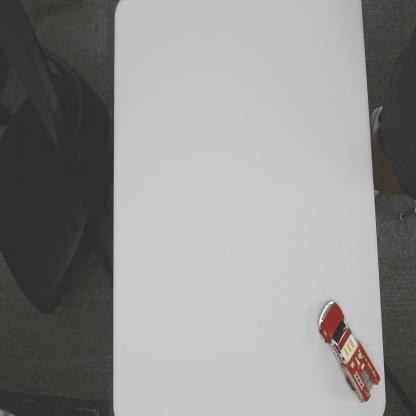Firetruck: (317, 299, 381, 404)
